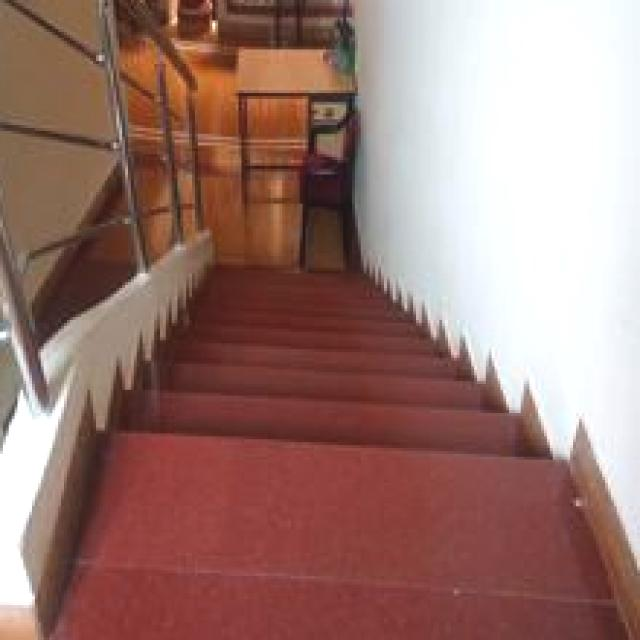downstair: (114, 295, 586, 495)
